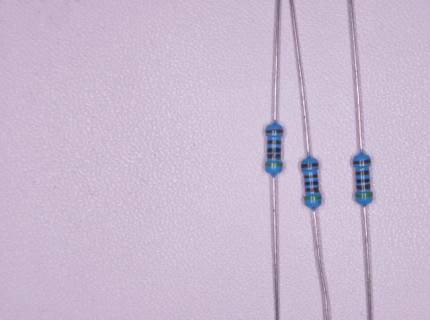Black band: (356, 178, 370, 183), (267, 148, 281, 152), (305, 181, 318, 185)
Brown band: (353, 159, 371, 164), (356, 184, 371, 190), (301, 163, 318, 168), (265, 129, 284, 133), (267, 140, 281, 145), (304, 174, 318, 179), (305, 187, 319, 192), (355, 170, 369, 175), (267, 154, 280, 159)
Green band: (304, 196, 322, 201), (355, 193, 373, 198), (265, 162, 282, 166)
